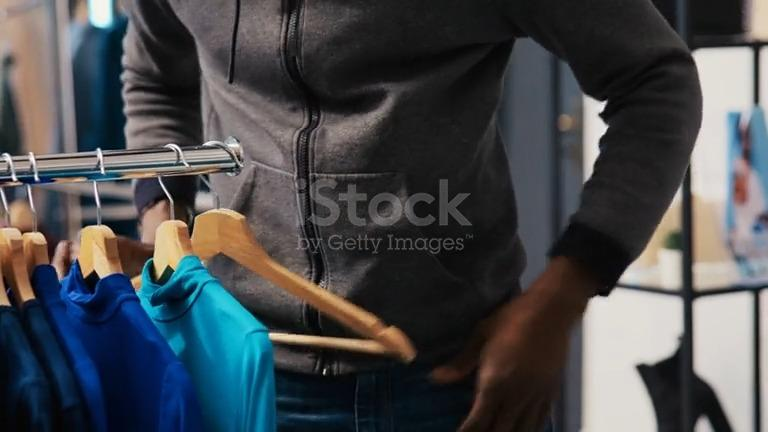Shoplifting: (101, 0, 711, 432)
